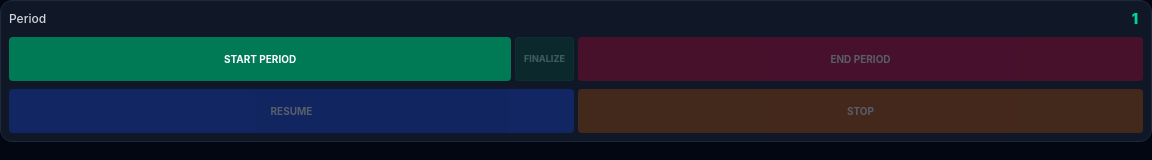
Test case: MatchLifecyclePanel Component Integration & State Machine › should disable lifecycle action buttons while an async operation is processing (isProcessing)
What coordinates should you click on to do the following:
click the button "START PERIOD"
I would click on:
 (260, 59)
Its box is [9,37,511,81].
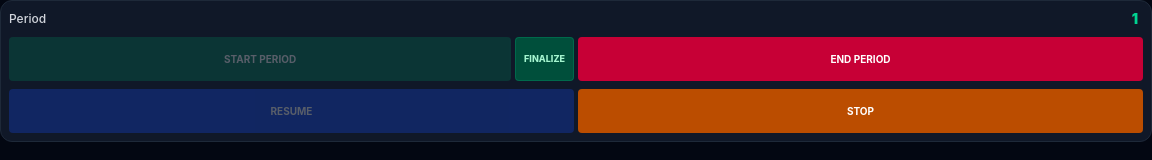
Check: the button "START PERIOD" is disabled, box [9,37,511,81]
